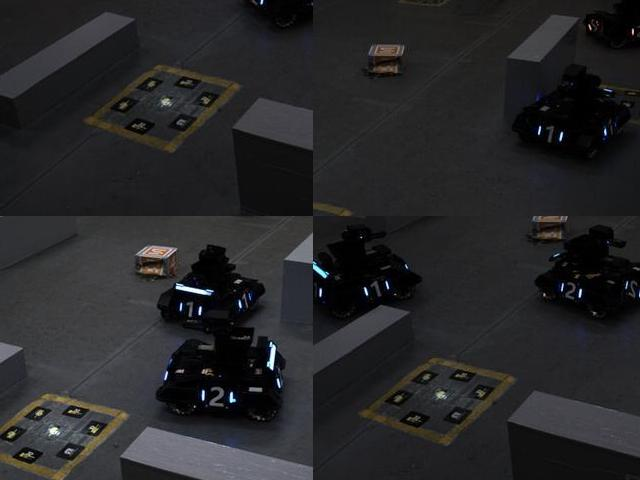armor: (195, 384, 241, 413), (531, 119, 568, 149), (173, 296, 208, 324), (557, 274, 586, 306), (356, 276, 393, 301), (597, 114, 621, 142), (233, 289, 256, 315), (621, 274, 639, 303), (586, 15, 604, 38), (313, 277, 325, 302), (625, 21, 639, 41), (245, 0, 266, 12)
